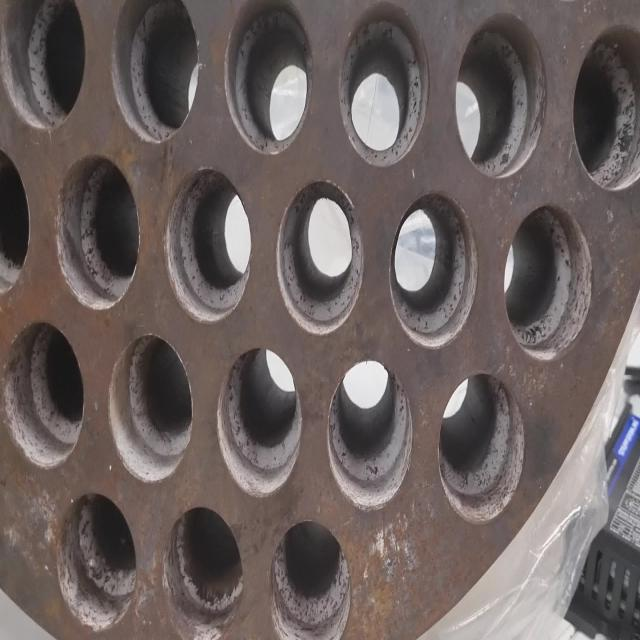Hole: (454, 12, 546, 180), (338, 2, 429, 167), (389, 190, 478, 348), (276, 177, 364, 336), (164, 167, 252, 324), (504, 204, 592, 361), (225, 0, 312, 156), (54, 154, 140, 310), (438, 372, 526, 524), (216, 346, 302, 498), (327, 360, 412, 512), (111, 0, 200, 143), (108, 333, 192, 483), (2, 320, 84, 469), (572, 23, 640, 192), (56, 489, 136, 632), (2, 0, 86, 132), (163, 504, 243, 629), (269, 519, 351, 640), (0, 145, 30, 300)
